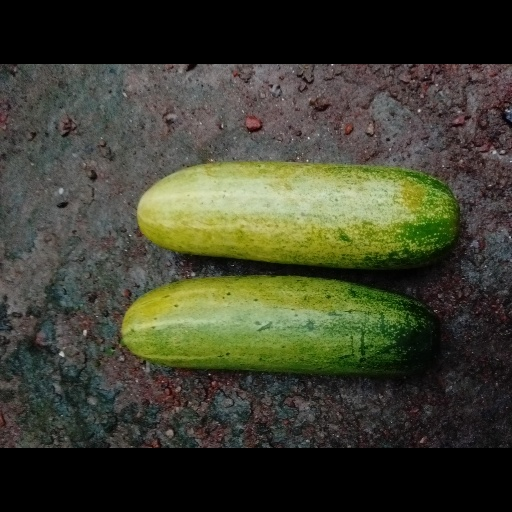concombre: (137, 160, 460, 272), (121, 275, 442, 380)
